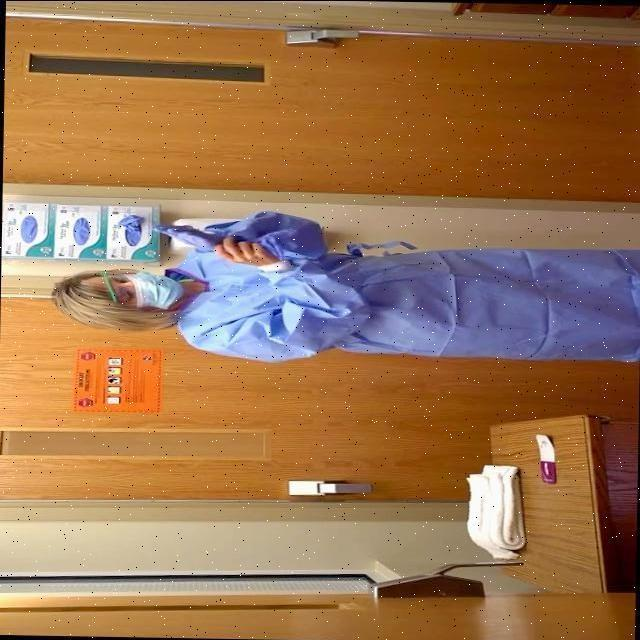no_apron: (223, 229, 280, 270)
